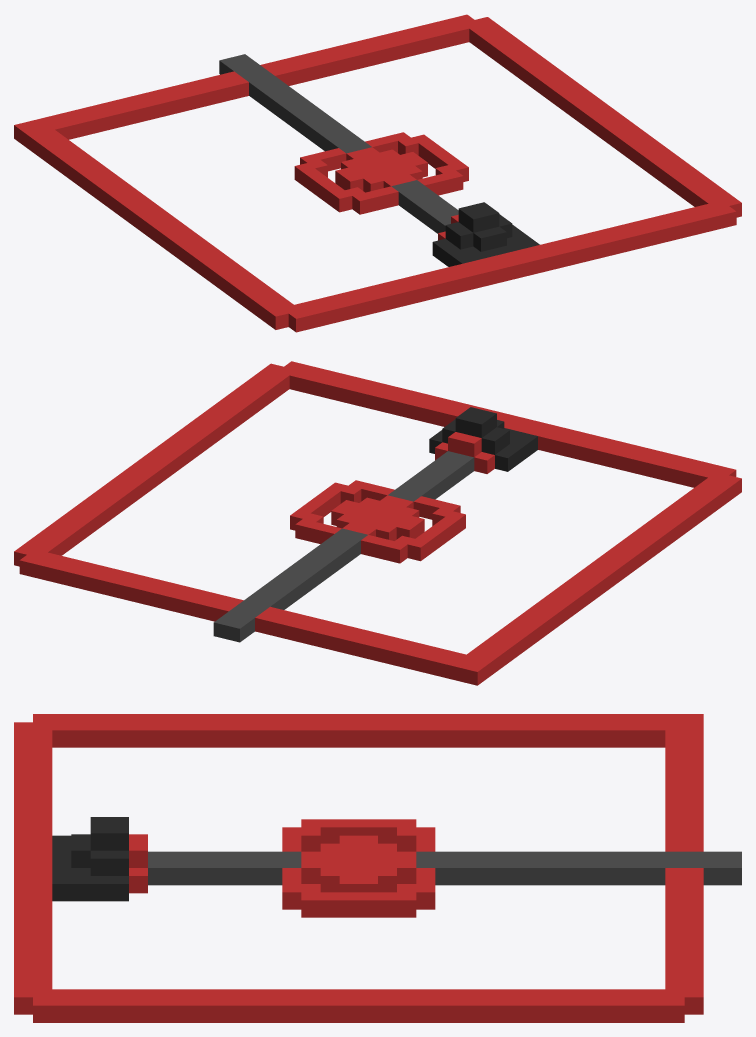
Rendered from wire_end0.obj.
The picture shows the model from 3 angles, top to bottom: view 1: azimuth 30°, elevation 25°; view 2: azimuth 150°, elevation 25°; view 3: azimuth 270°, elevation 25°; orthographic projection. The views are drawn at different scales.
Size of the model in its own units: 3.6 by 0.3 by 3.8.
